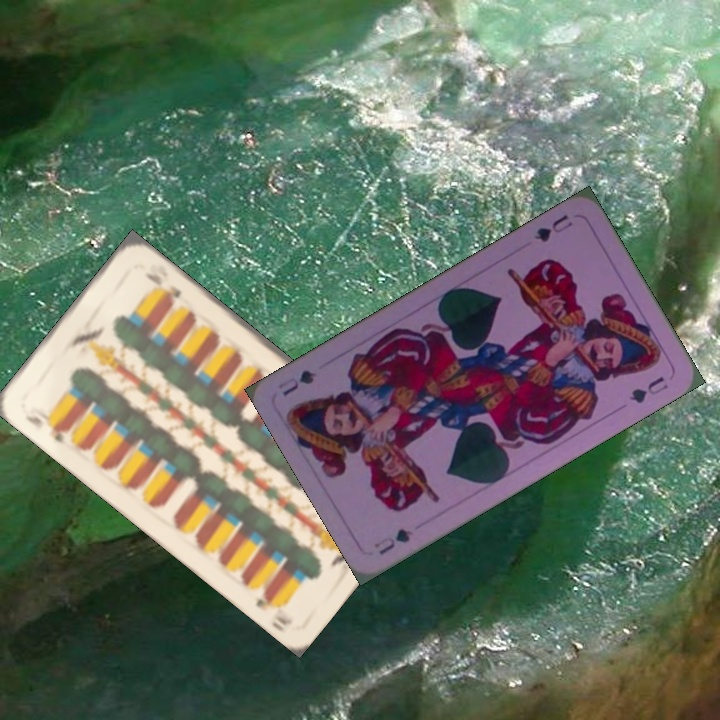E10: (21, 407, 71, 446)
GU: (530, 210, 575, 245), (369, 524, 415, 558)
